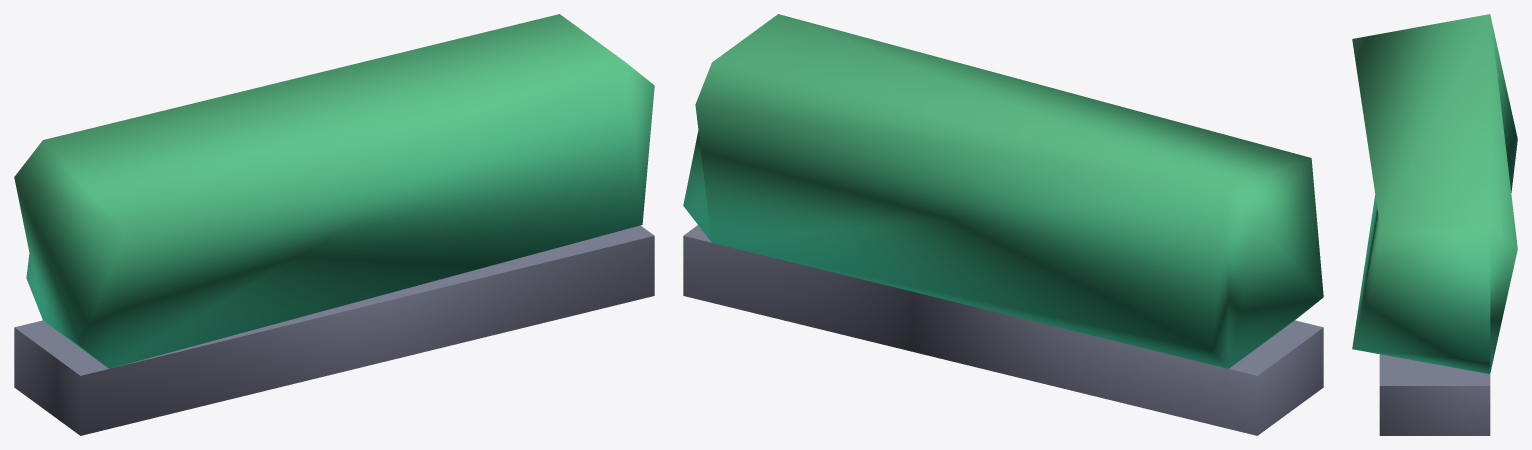
Rendered from cc0-hedge-lod1.glb.
The picture shows the model from 3 angles, left to right: view 1: azimuth 30°, elevation 25°; view 2: azimuth 150°, elevation 25°; view 3: azimuth 270°, elevation 25°; orthographic projection. The views are drawn at different scales.
Parts seen in each view (by area): view 1: part_0; view 2: part_0; view 3: part_0.
Boxes of the visible parts, x1,y1,x2,y2 form: part_0: (14, 14, 654, 435); part_0: (683, 14, 1323, 435); part_0: (1352, 14, 1517, 435).
Bounding box in the file's own units: 1 × 0.4 × 0.3.
1 material, 1 textured.
